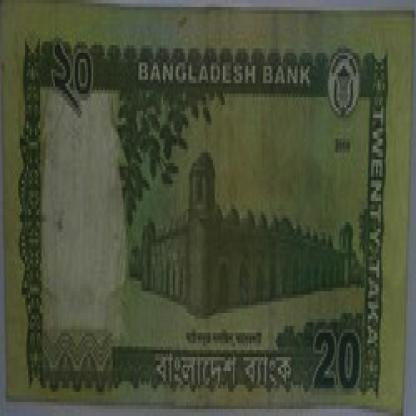Twenty: (40, 24, 108, 125), (306, 323, 363, 402)
